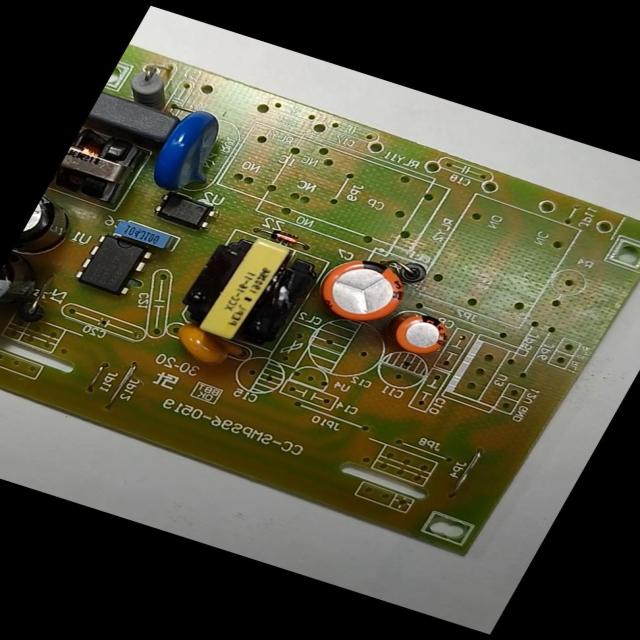Cap1: (306, 249, 418, 333)
Cap2: (384, 308, 456, 361)
Cap3: (12, 190, 84, 262)
Cap4: (0, 254, 49, 323)
MOSFET: (72, 232, 159, 298)
Mov: (134, 101, 244, 202)
Resistor: (118, 63, 187, 110)
Transformer: (168, 226, 323, 354), (49, 123, 151, 206)
